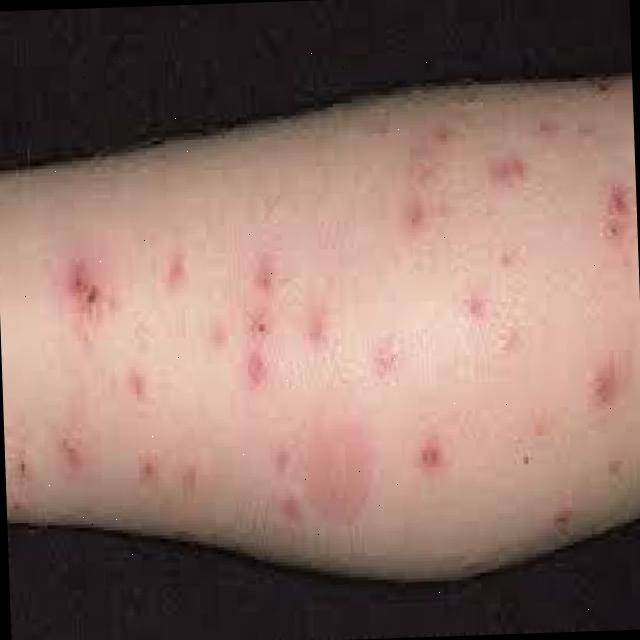kan emici bocekler: (24, 98, 640, 562)
